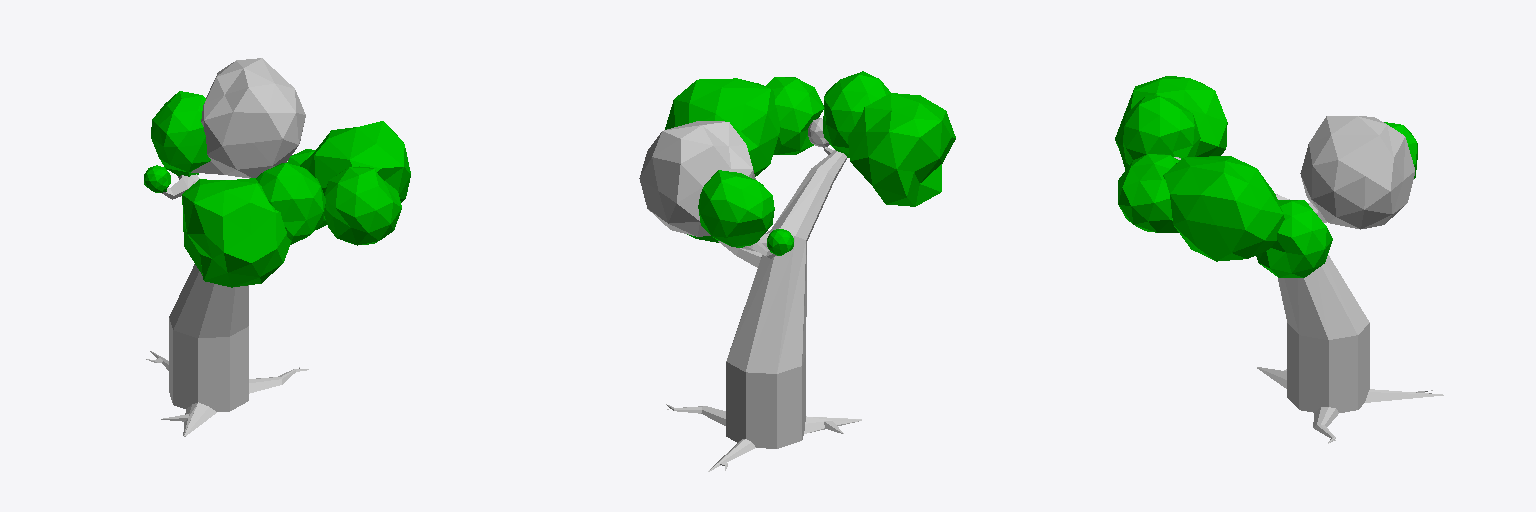
Rendered from arbol.obj.
3 renders of one model, left to right at view 1: azimuth 30°, elevation 25°; view 2: azimuth 150°, elevation 25°; view 3: azimuth 270°, elevation 25°, orthographic.
Visible parts, largest first — view 1: Cylinder.002; view 2: Cylinder.002; view 3: Cylinder.002.
Part boxes in pixels (x1,y1,x2,y2): Cylinder.002: (144, 58, 410, 436); Cylinder.002: (639, 71, 955, 471); Cylinder.002: (1115, 76, 1443, 443).
Size of the model in its own units: 10.76 by 13.05 by 12.78.